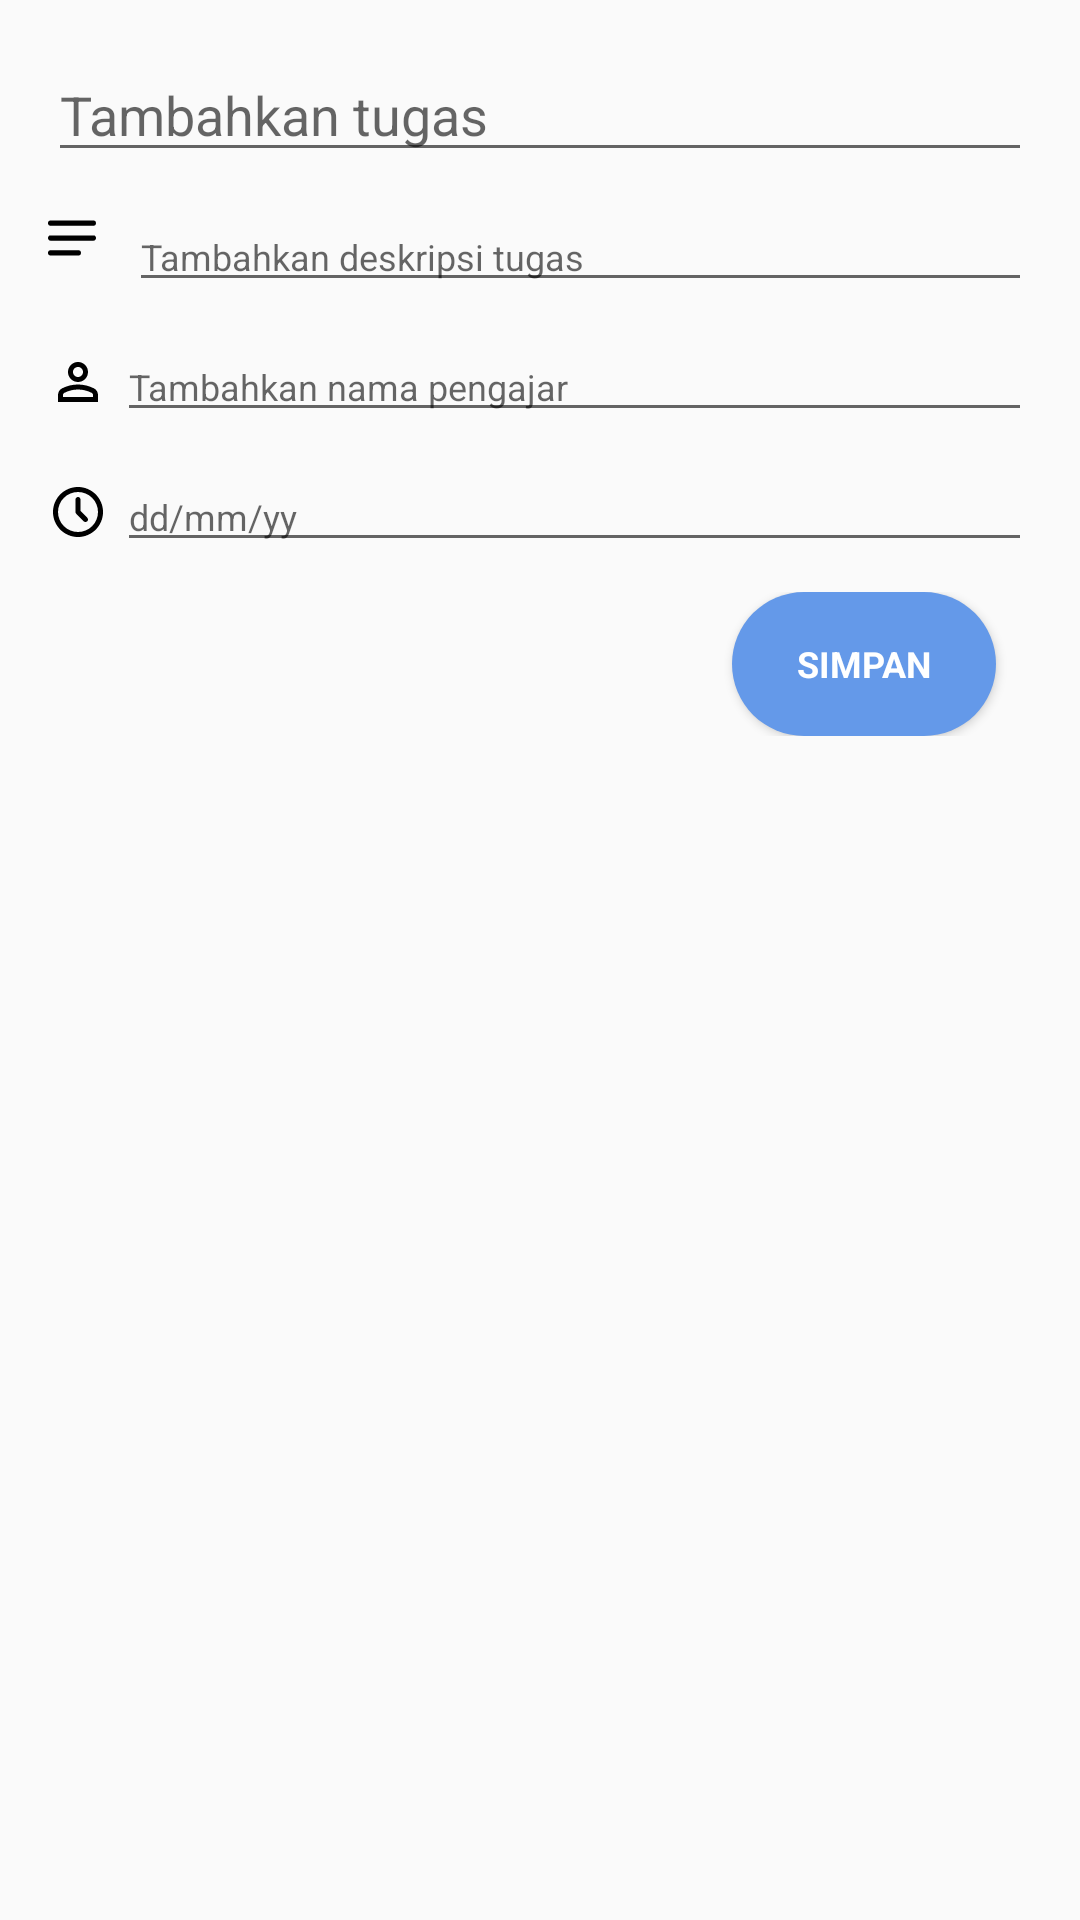

Screen size 1080px x 1920px. Icon name, then its box in pixels as bbox=[x1, y1, x2, y2]:
desc: bbox=[48, 220, 96, 256]
person: bbox=[58, 362, 98, 402]
time: bbox=[53, 487, 103, 537]
